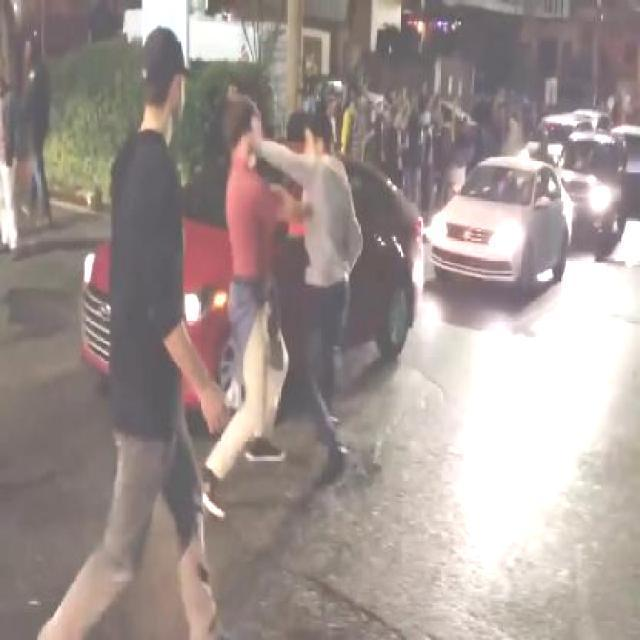fight: (215, 96, 362, 499)
non-fight: (104, 23, 214, 640)
